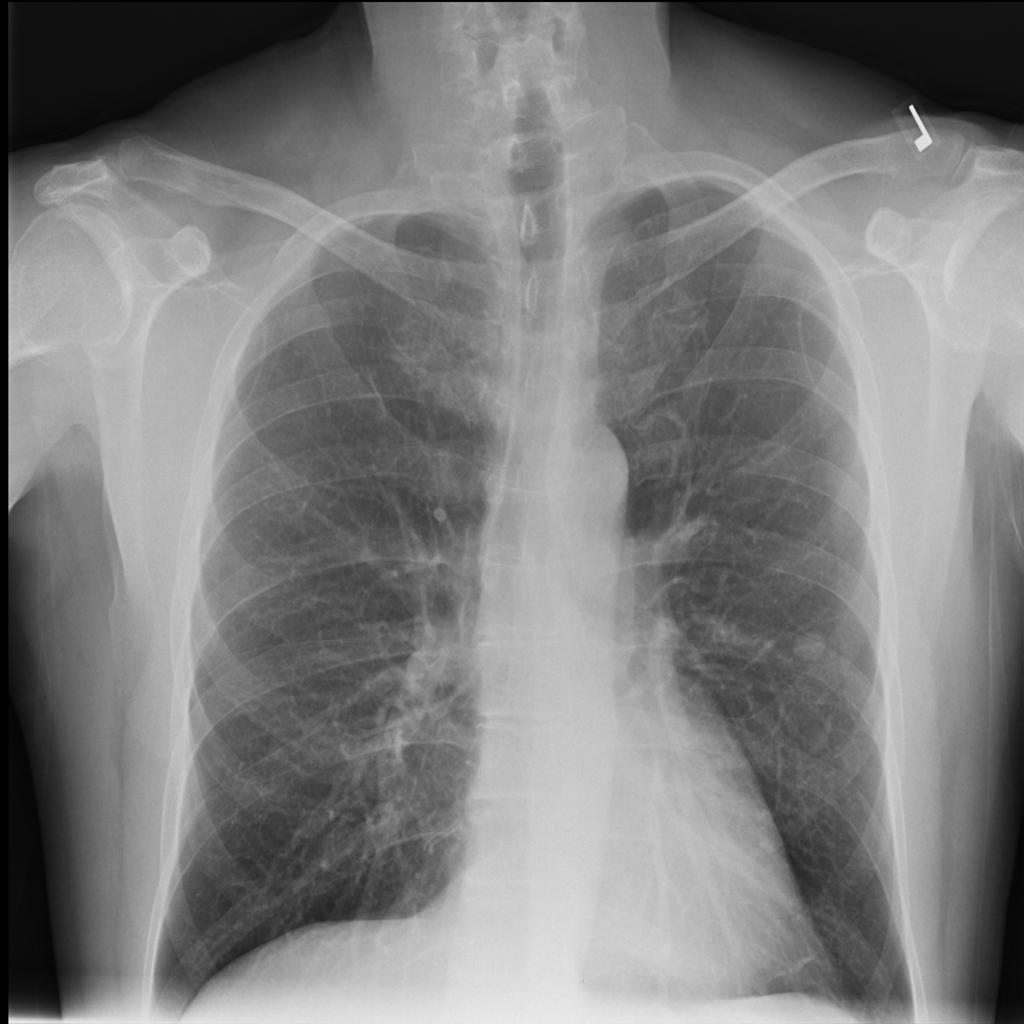nodule: (785, 620, 837, 672)
